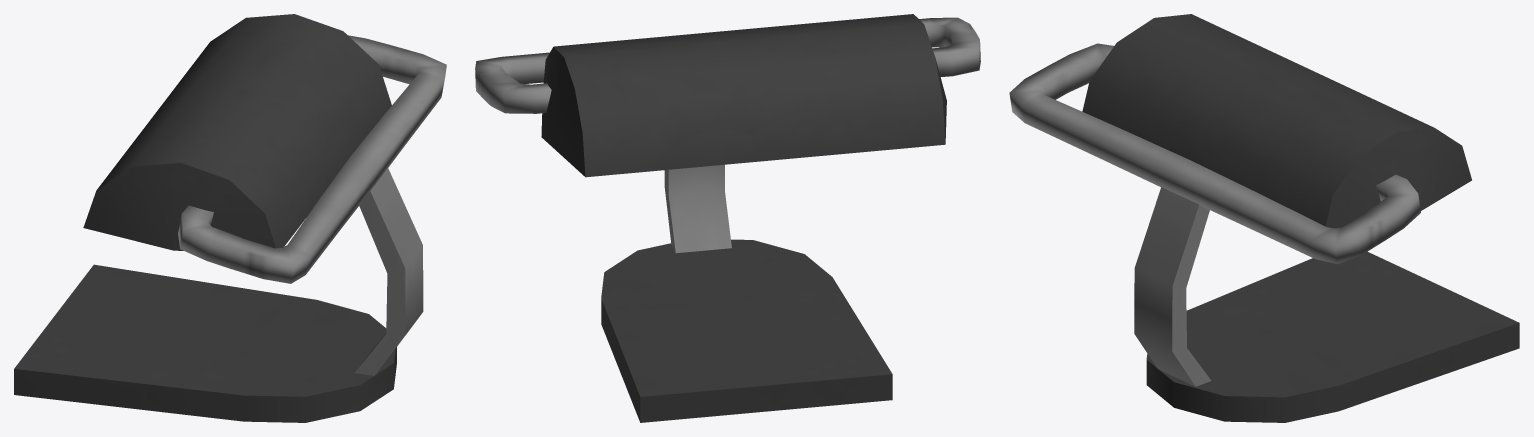
The model's file is DeskLampBaseMerged.fbx.
3 views of the same model, side by side, from view 1: azimuth 30°, elevation 25°; view 2: azimuth 150°, elevation 25°; view 3: azimuth 270°, elevation 25° (orthographic).
Parts seen in each view (by area): view 1: deskLampBase_merged; view 2: deskLampBase_merged; view 3: deskLampBase_merged.
Part boxes in pixels (box(x1,y1,x2,y2)): deskLampBase_merged: box(14, 14, 446, 422); deskLampBase_merged: box(475, 14, 980, 422); deskLampBase_merged: box(1009, 14, 1519, 422).
Size of the model in its own units: 1.86 by 1.21 by 1.97.
